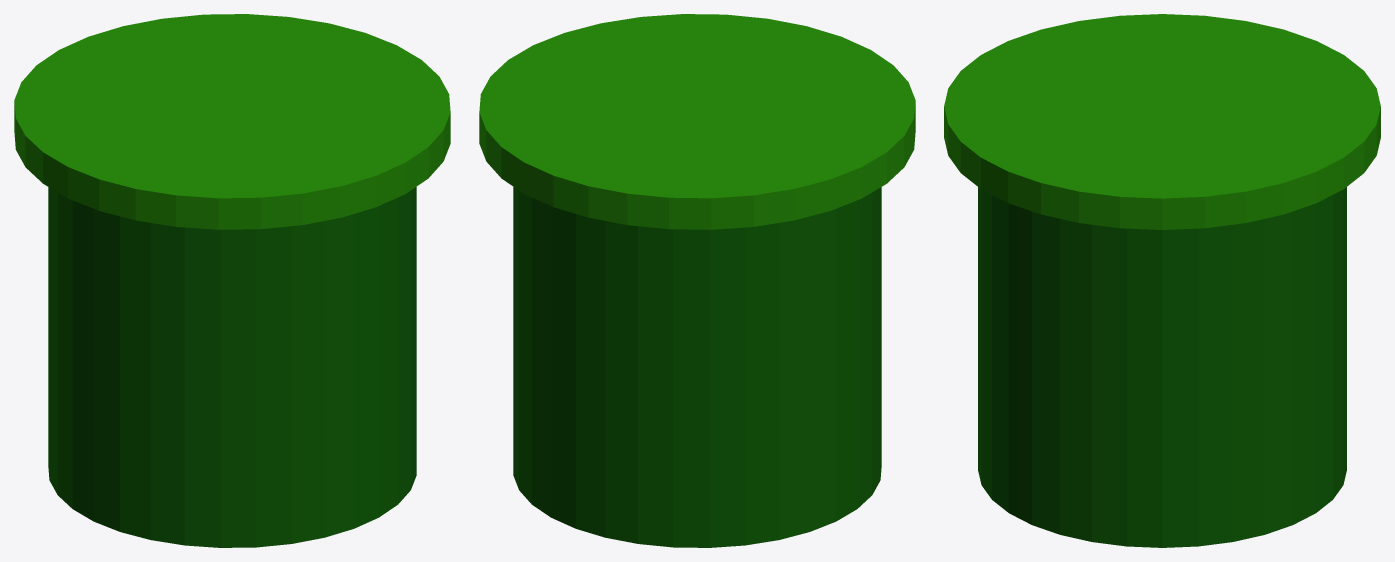
The model's file is trashcan.fbx.
The picture shows the model from 3 angles, left to right: view 1: azimuth 30°, elevation 25°; view 2: azimuth 150°, elevation 25°; view 3: azimuth 270°, elevation 25°; orthographic projection.
Parts seen in each view (by area): view 1: trashcan_body, trashcan_cover; view 2: trashcan_body, trashcan_cover; view 3: trashcan_body, trashcan_cover.
Part boxes in pixels (<box>): trashcan_body: <box>48,187,416,547</box>; trashcan_cover: <box>14,14,450,229</box>; trashcan_body: <box>513,187,881,547</box>; trashcan_cover: <box>479,14,915,229</box>; trashcan_body: <box>978,187,1346,547</box>; trashcan_cover: <box>944,14,1380,229</box>.
Size of the model in its own units: 305 by 280 by 305.
